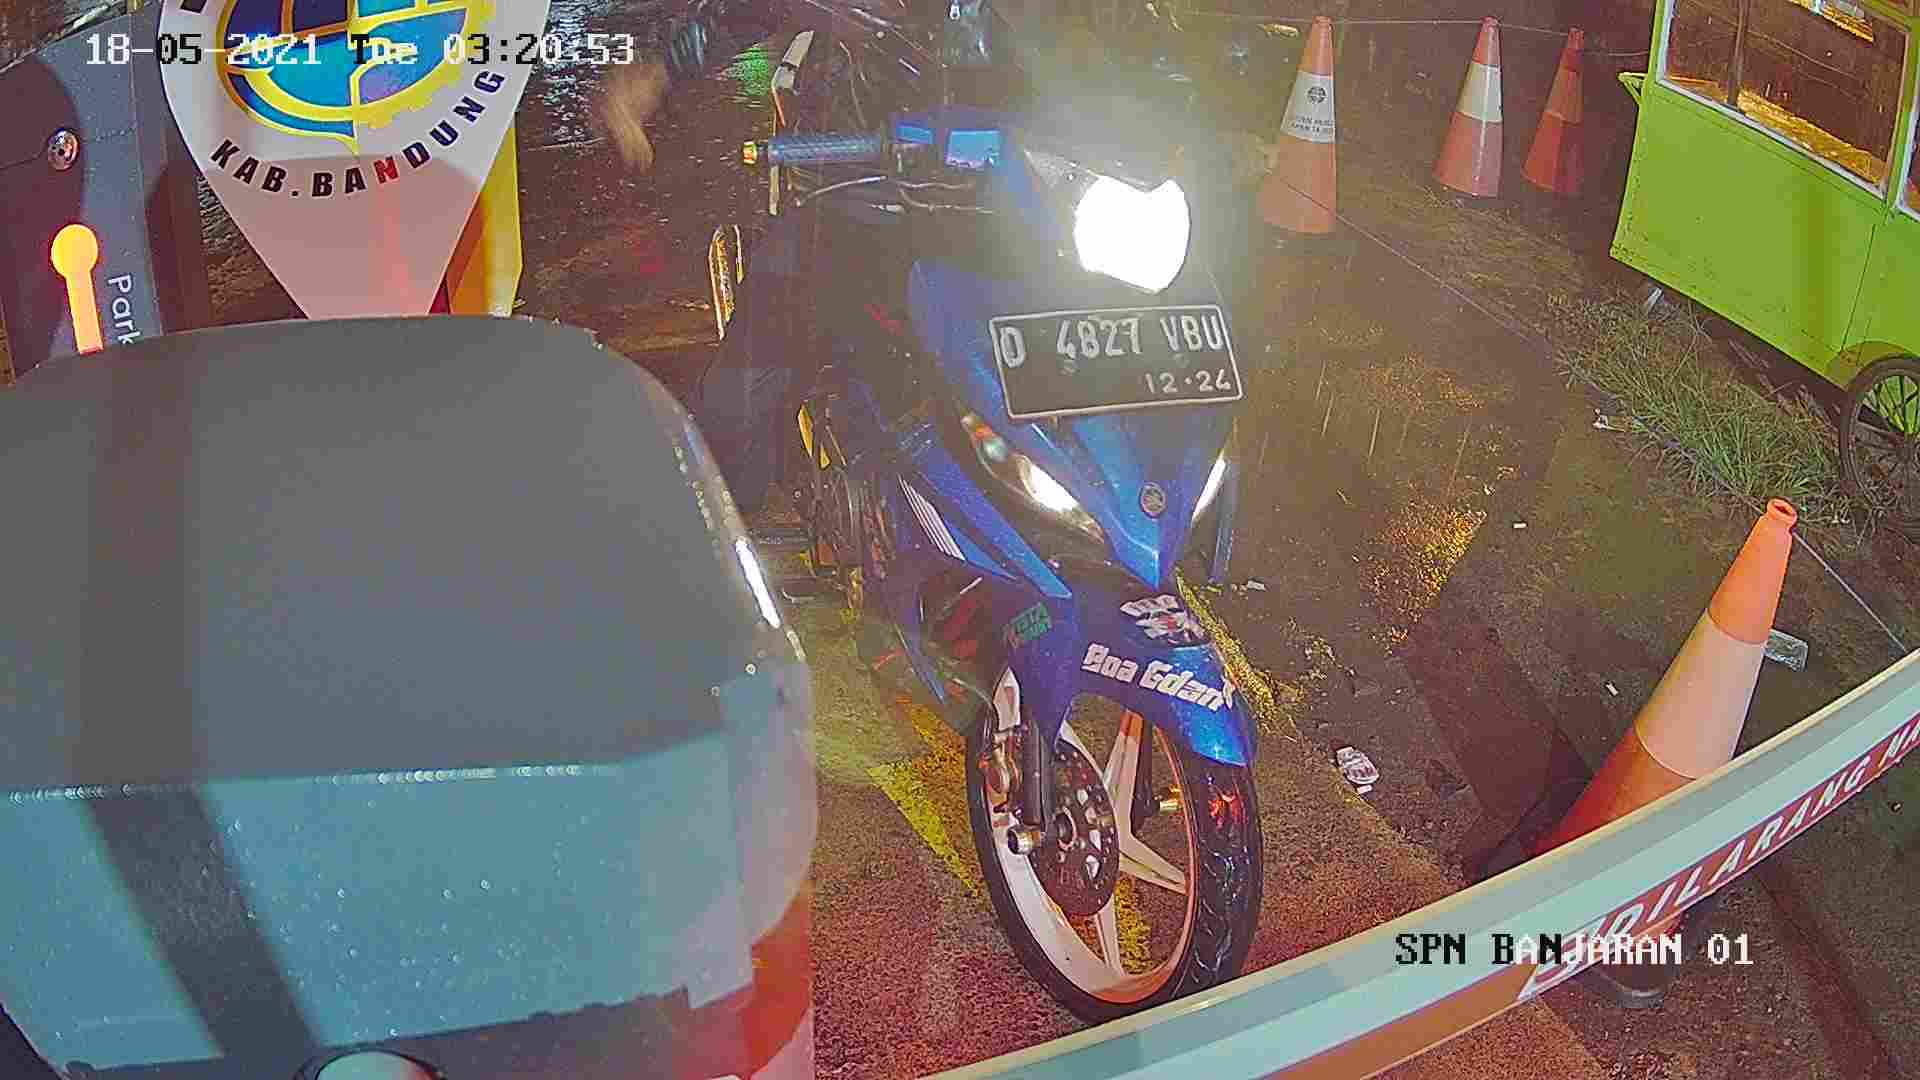motor: (702, 74, 1267, 1022)
